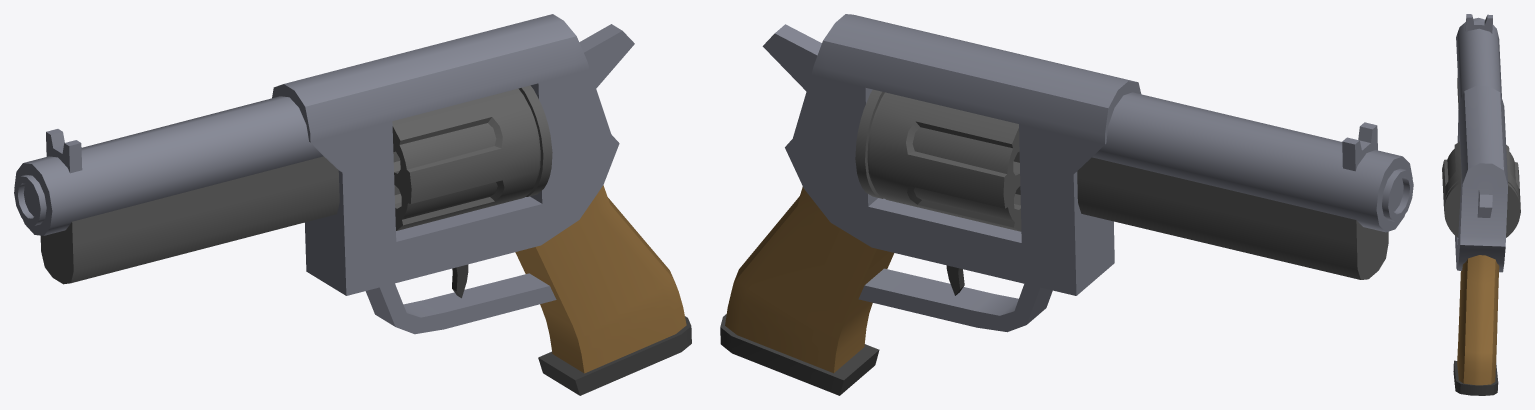
Rendered from revolver.glb.
3 views of the same model, side by side, from view 1: azimuth 30°, elevation 25°; view 2: azimuth 150°, elevation 25°; view 3: azimuth 270°, elevation 25° (orthographic). The views are drawn at different scales.
Parts seen in each view (by area): view 1: Revolver; view 2: Revolver; view 3: Revolver.
Part boxes in pixels (left/top/right/bottom): Revolver: left=14, top=14, right=691, bottom=395; Revolver: left=720, top=14, right=1413, bottom=395; Revolver: left=1442, top=14, right=1520, bottom=395.
Size of the model in its own units: 0.9888 by 0.5289 by 0.1751.
